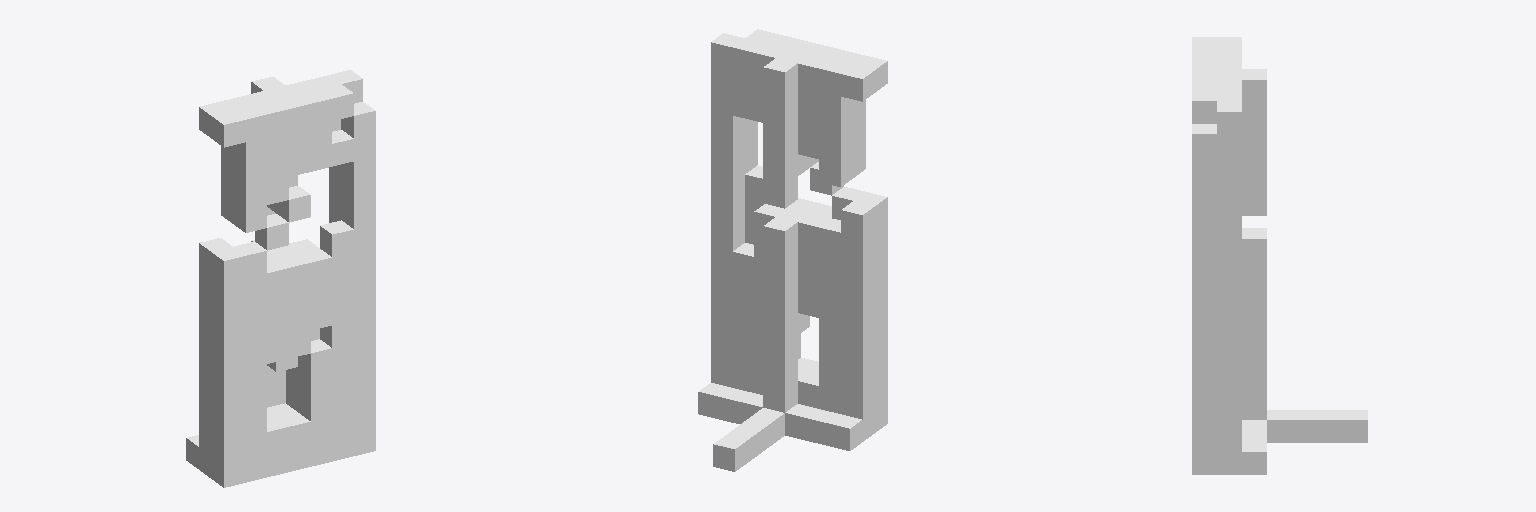
Rendered from Building1_Destroyed1-3.obj.
The picture shows the model from 3 angles: view 1: azimuth 30°, elevation 25°; view 2: azimuth 150°, elevation 25°; view 3: azimuth 270°, elevation 25°; orthographic projection.
Visible parts, largest first — view 1: object 1; view 2: object 1; view 3: object 1.
Part boxes in pixels (left/top/right/bottom): object 1: left=186, top=70, right=375, bottom=487; object 1: left=698, top=29, right=887, bottom=471; object 1: left=1192, top=37, right=1367, bottom=474.
Size of the model in its own units: 0.7 by 1.6 by 0.7.